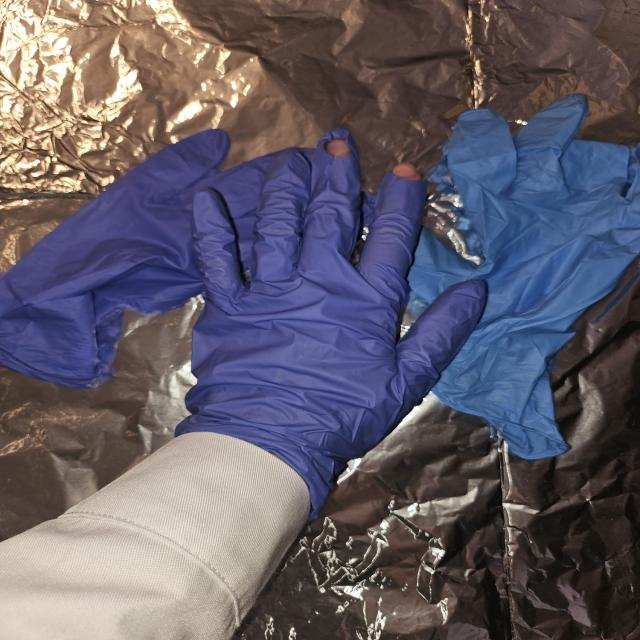gloves_damaged: (174, 125, 492, 508)
